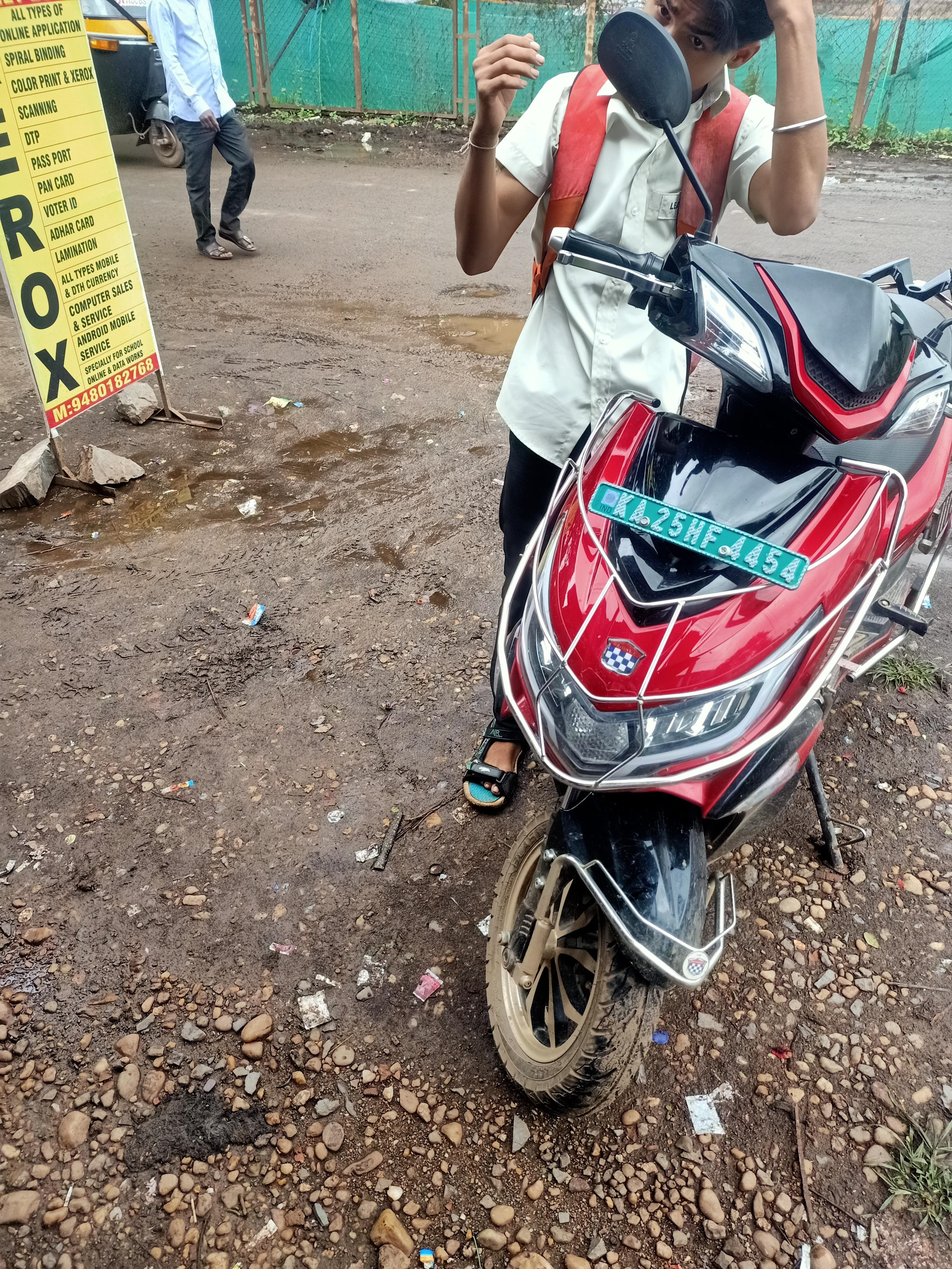green license plate: (584, 474, 808, 591)
